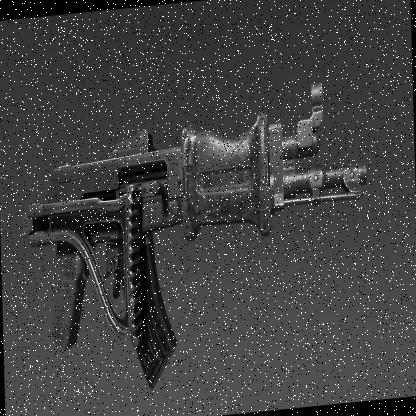rifle: (28, 111, 378, 398)
